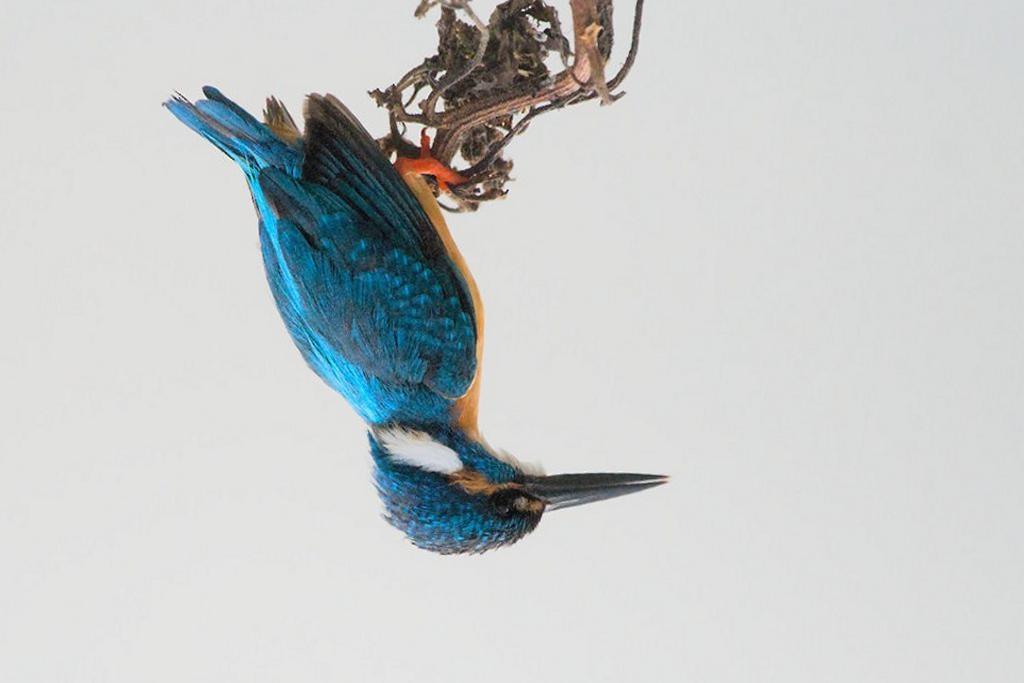kingfisher: (142, 72, 676, 558)
